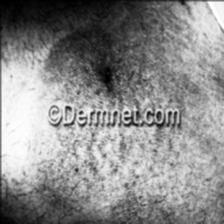Potentially Malignant Skin Tumors: (94, 59, 127, 101)
